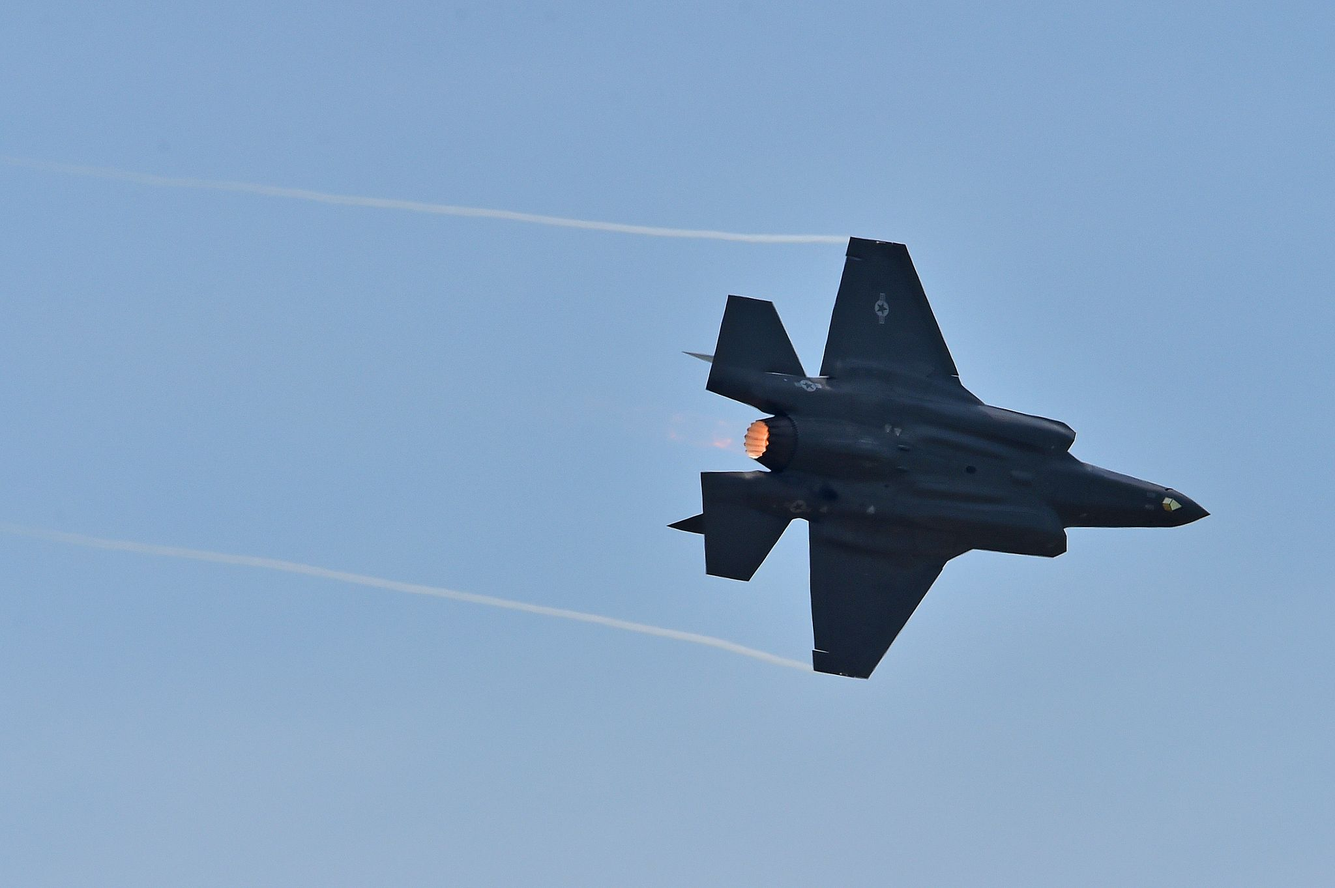F35: (665, 231, 1213, 690)
